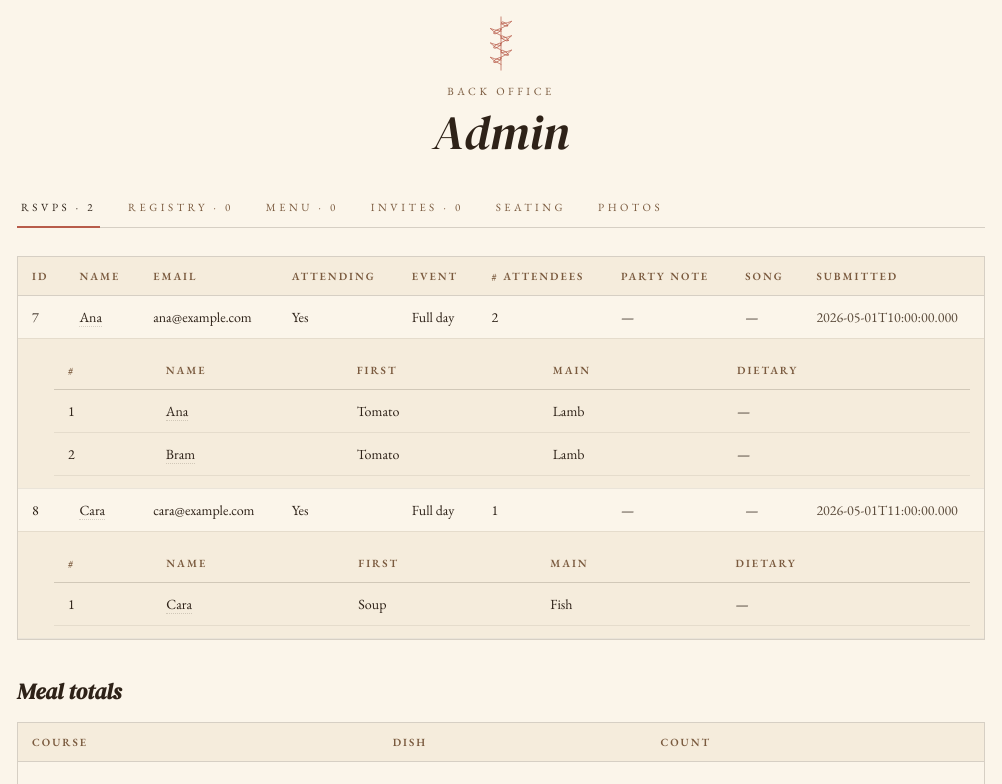
it: AdminDashboard — renaming guests › Enter PATCHes the lead and updates both the lead and attendee 1
Click the button with aria-label "Lead name: Ana".
click(91, 317)  # box 79,308 -> 102,327
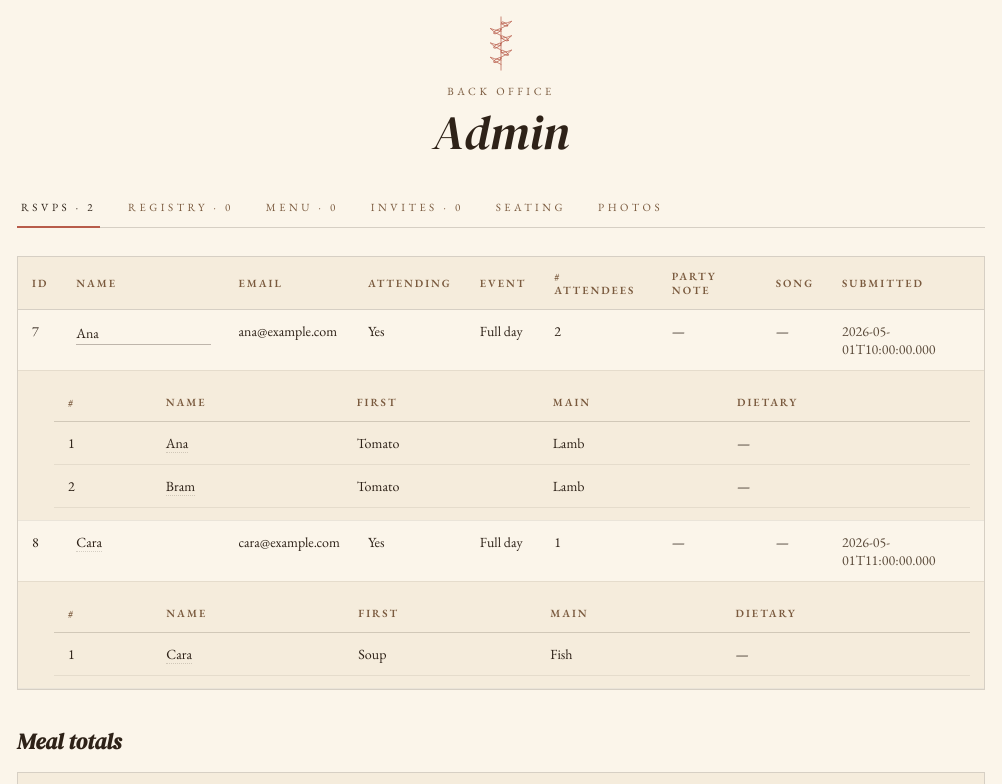
Replace the text in the field named "Lead name: Ana" with "Anna Peeters" at (143, 333), box 76,322 -> 211,345
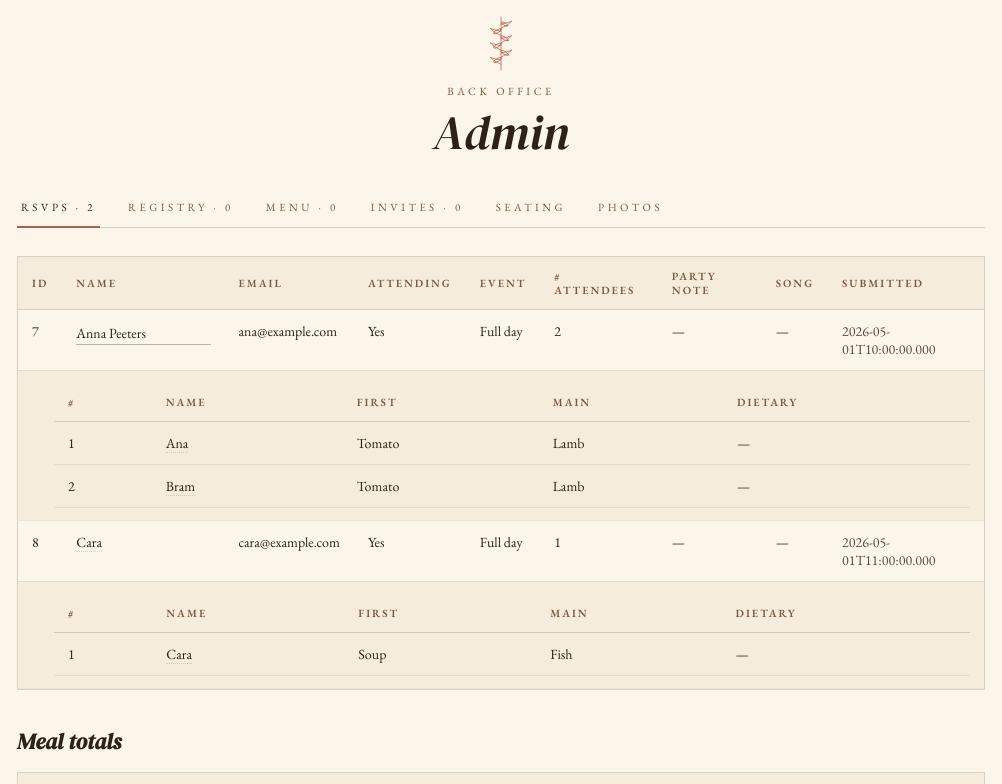
Press Enter in the field named "Lead name: Ana", box 76,322 -> 211,345
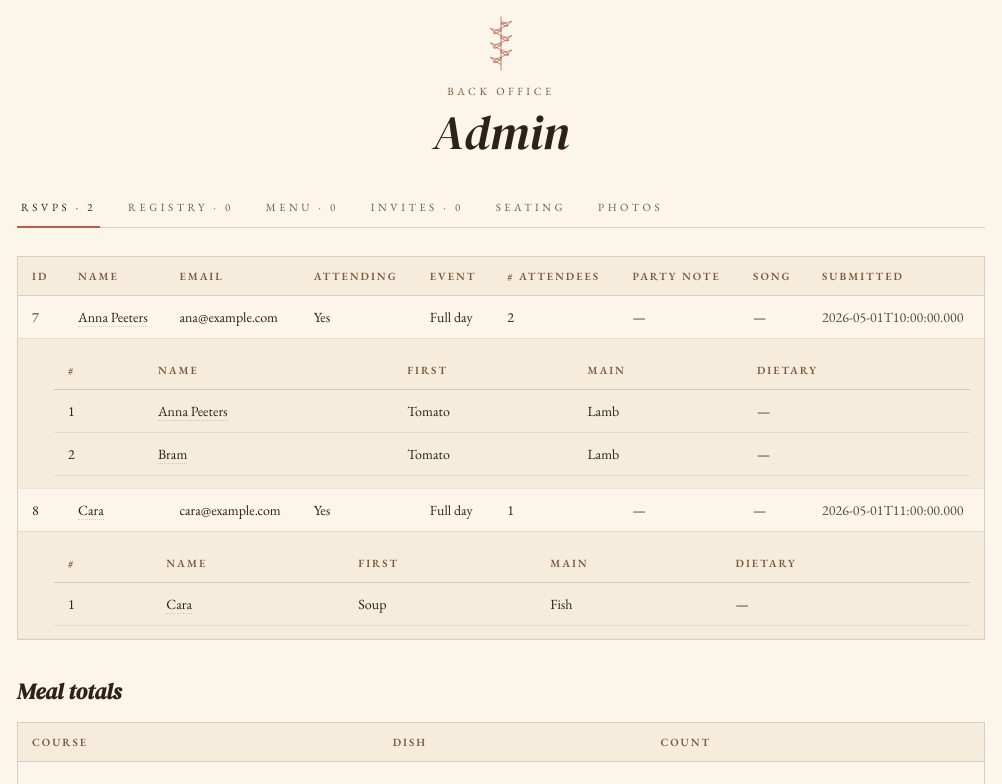
Expected: the button "Bram" is shown, 158,445 -> 187,464
Now the number of buttons "Anna Peeters" is 2, box 78,308 -> 148,327; 158,402 -> 228,421
